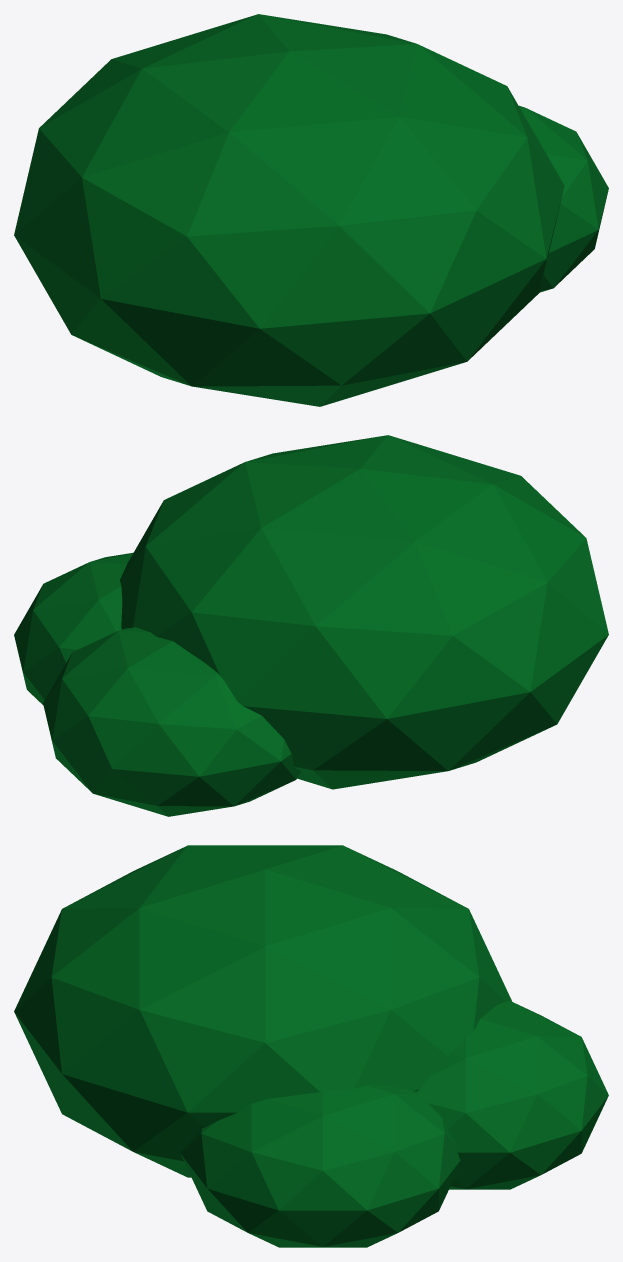
The model's file is Bush.001.fbx.
3 renders of one model, top to bottom at view 1: azimuth 30°, elevation 25°; view 2: azimuth 150°, elevation 25°; view 3: azimuth 270°, elevation 25°, orthographic. The views are drawn at different scales.
Visible parts, largest first — view 1: Bush.000; view 2: Bush.000; view 3: Bush.000.
Boxes of the visible parts, box(x1,y1,x2,y2) form: Bush.000: box(14, 14, 608, 406); Bush.000: box(14, 435, 608, 816); Bush.000: box(14, 845, 608, 1247).
Bounding box in the file's own units: 116 × 62.79 × 119.
